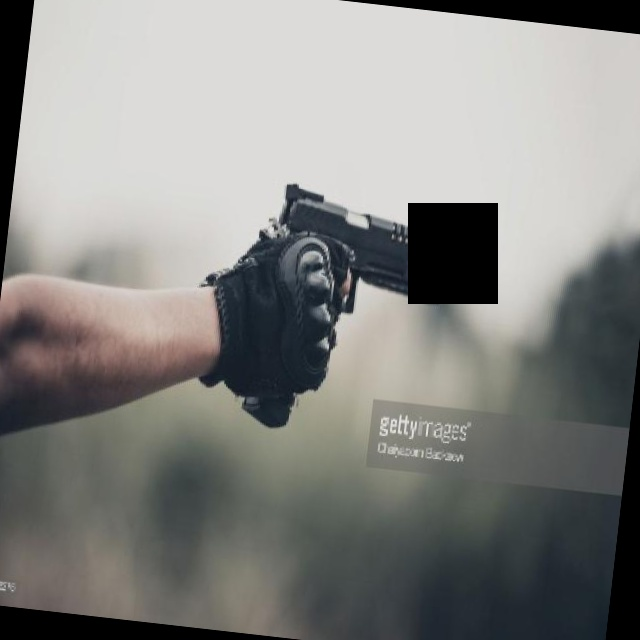gun: (237, 172, 459, 447)
